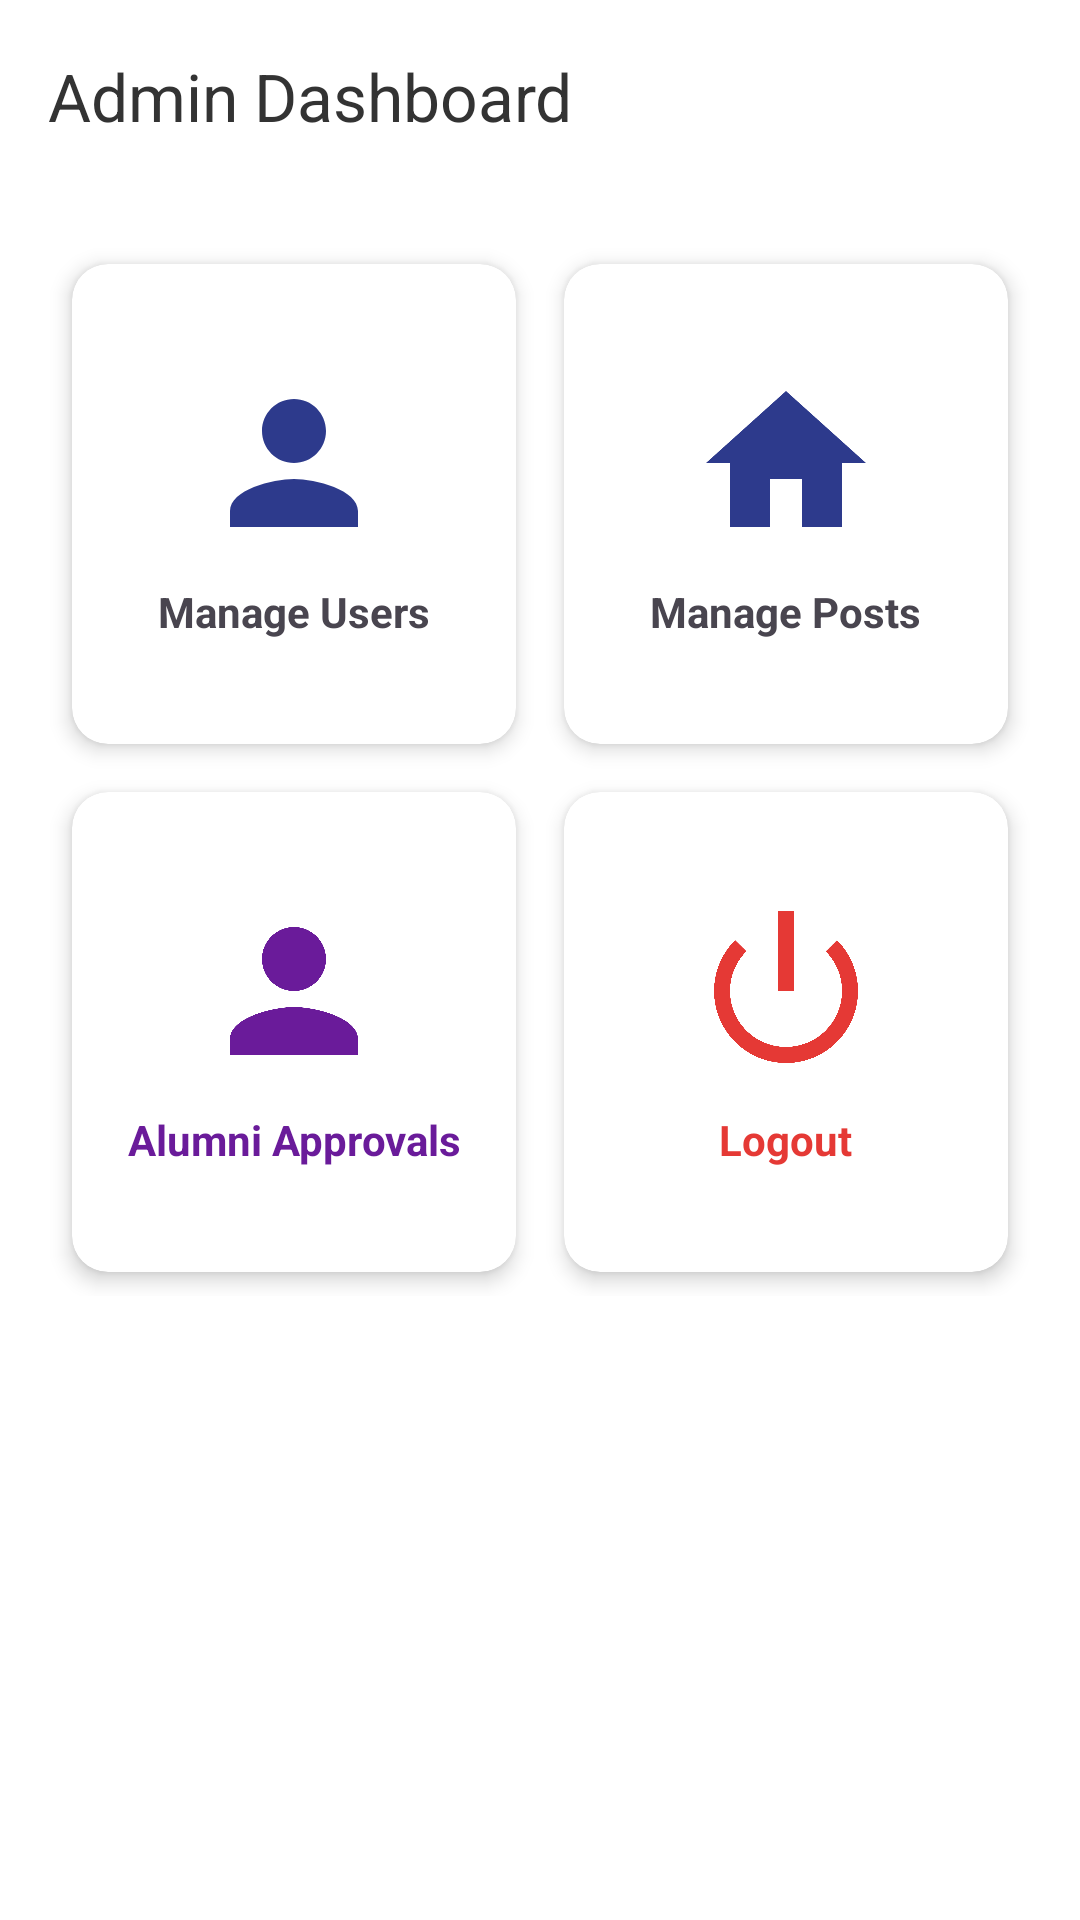

Where icons sit on this 1080×1920 app screen, as (x1, y1, x2, y2):
home: (706, 391, 866, 527)
lock power off: (714, 911, 858, 1063)
profile: (230, 399, 358, 527), (230, 927, 358, 1055)
